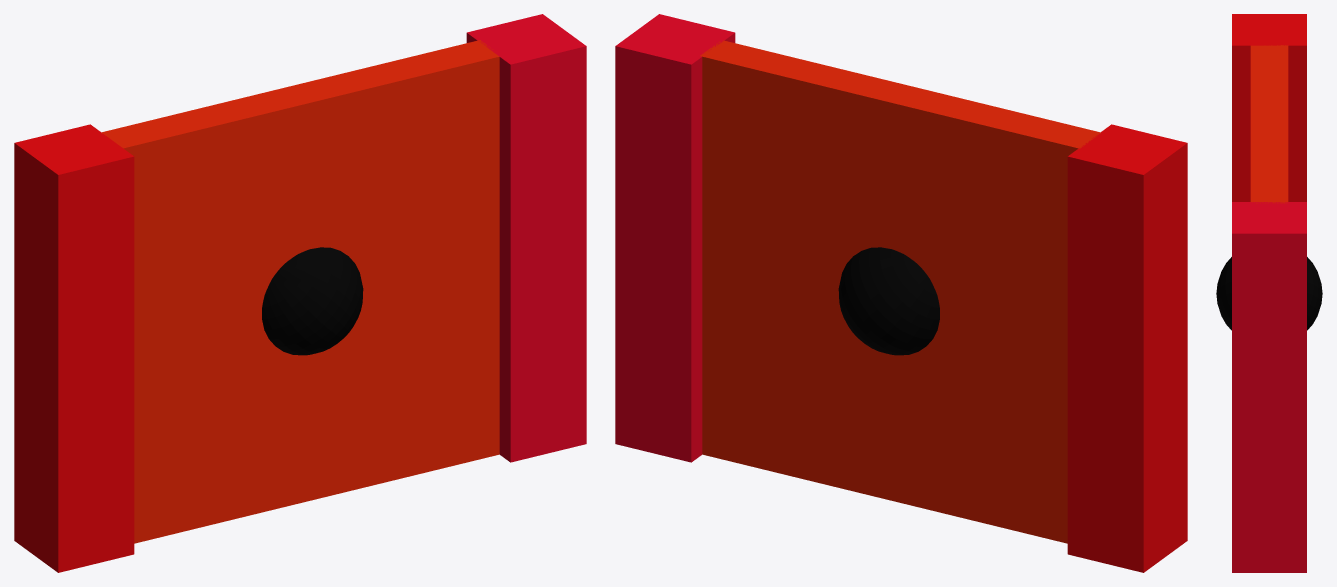
The model's file is ExplosionUpgrade.fbx.
The picture shows the model from 3 angles, left to right: view 1: azimuth 30°, elevation 25°; view 2: azimuth 150°, elevation 25°; view 3: azimuth 270°, elevation 25°; orthographic projection. The views are drawn at different scales.
Parts seen in each view (by area): view 1: Cube.001, Sphere; view 2: Cube.001, Sphere; view 3: Cube.001, Sphere.
Boxes of the visible parts, left/top/right/bottom form: Cube.001: left=14, top=14, right=586, bottom=572; Sphere: left=262, top=247, right=363, bottom=355; Cube.001: left=615, top=14, right=1187, bottom=572; Sphere: left=838, top=247, right=939, bottom=355; Cube.001: left=1232, top=14, right=1306, bottom=572; Sphere: left=1216, top=257, right=1322, bottom=330.
Bounding box in the file's own units: 139 × 100 × 28.38.
